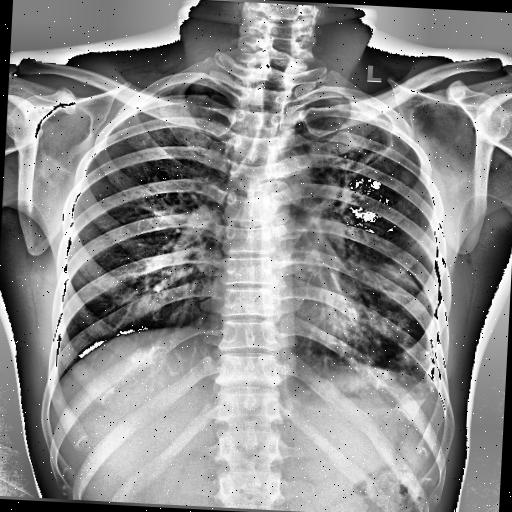11- Pleural thickening: (160, 83, 218, 96), (434, 368, 440, 394)
13- Pulmonary fibrosis: (308, 104, 398, 211), (331, 114, 365, 152)
2- Calcification: (428, 350, 438, 386)
4- Consolidation: (359, 266, 429, 314)
6- Infiltration: (342, 258, 442, 384), (329, 254, 434, 373), (308, 104, 398, 211), (346, 292, 416, 374)
7- Lung Opacity: (342, 258, 442, 384), (359, 266, 429, 314)
